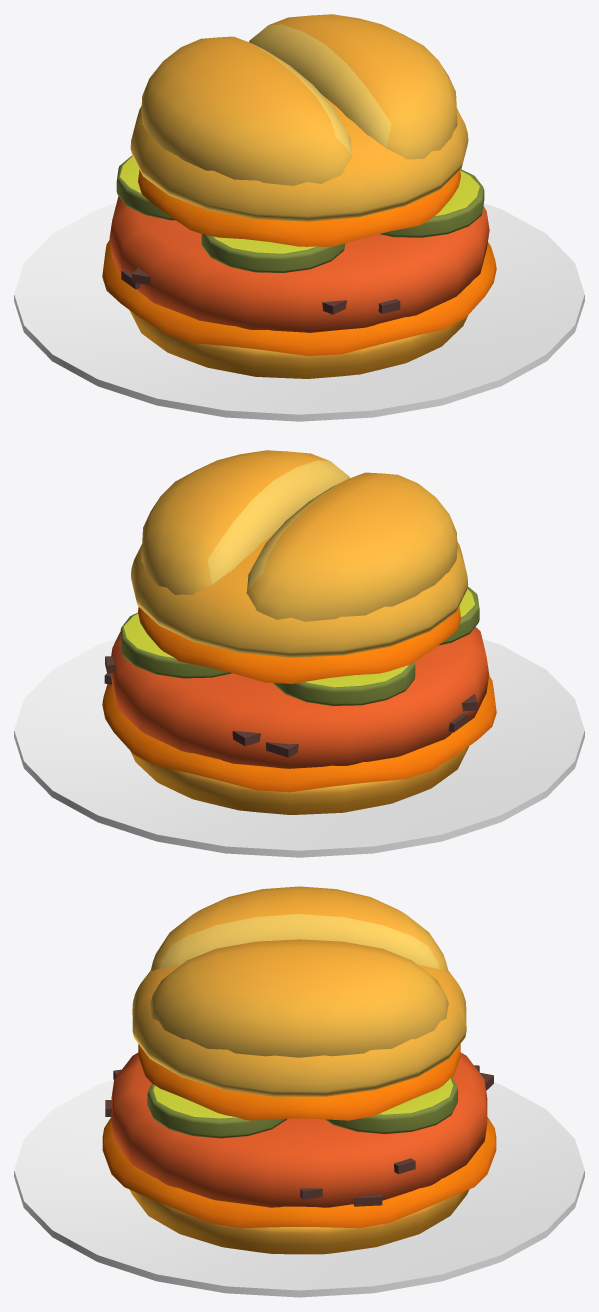
File: Spicy_Crispy_Chicken.fbx
The picture shows the model from 3 angles, top to bottom: view 1: azimuth 30°, elevation 25°; view 2: azimuth 150°, elevation 25°; view 3: azimuth 270°, elevation 25°; orthographic projection.
Visible parts, largest first — view 1: Spicy_Crispy_Chicken; view 2: Spicy_Crispy_Chicken; view 3: Spicy_Crispy_Chicken.
Part boxes in pixels (left/top/right/bottom): Spicy_Crispy_Chicken: left=14, top=14, right=584, bottom=421; Spicy_Crispy_Chicken: left=14, top=450, right=584, bottom=857; Spicy_Crispy_Chicken: left=14, top=886, right=584, bottom=1297.
Size of the model in its own units: 146 by 83.02 by 146.
